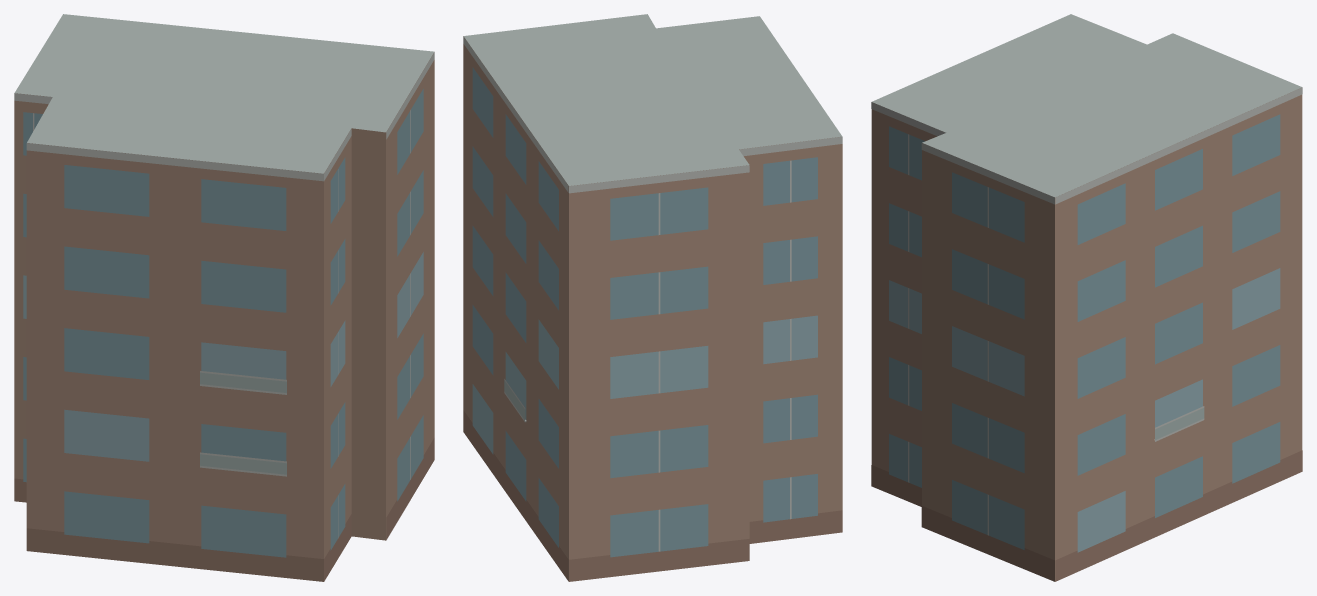
The model's file is survey-upis-32641097.glb.
3 views of the same model, side by side, from view 1: azimuth 30°, elevation 25°; view 2: azimuth 150°, elevation 25°; view 3: azimuth 270°, elevation 25° (orthographic). The views are drawn at different scales.
Parts seen in each view (by area): view 1: survey-upis-32641097.tmp; view 2: survey-upis-32641097.tmp; view 3: survey-upis-32641097.tmp.
Part boxes in pixels (bbox=[...]): survey-upis-32641097.tmp: bbox=[14, 14, 434, 581]; survey-upis-32641097.tmp: bbox=[463, 14, 842, 581]; survey-upis-32641097.tmp: bbox=[871, 14, 1302, 581].
Bounding box in the file's own units: 13.42 × 13.1 × 13.32.
